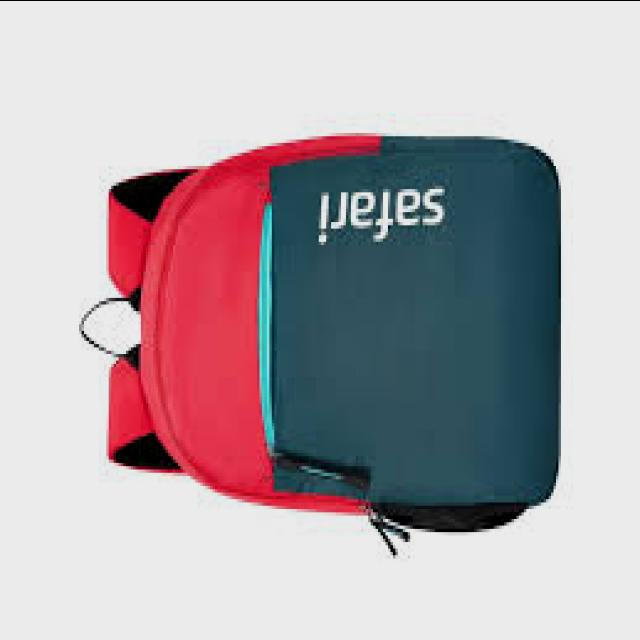backpack: (78, 133, 562, 555)
